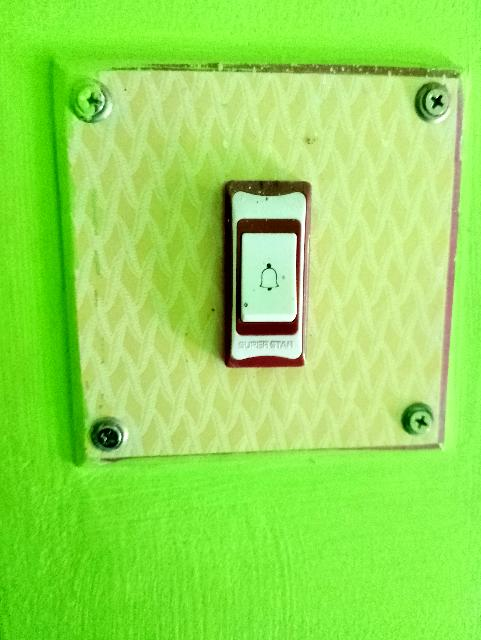hardplastic: (228, 162, 305, 372)
